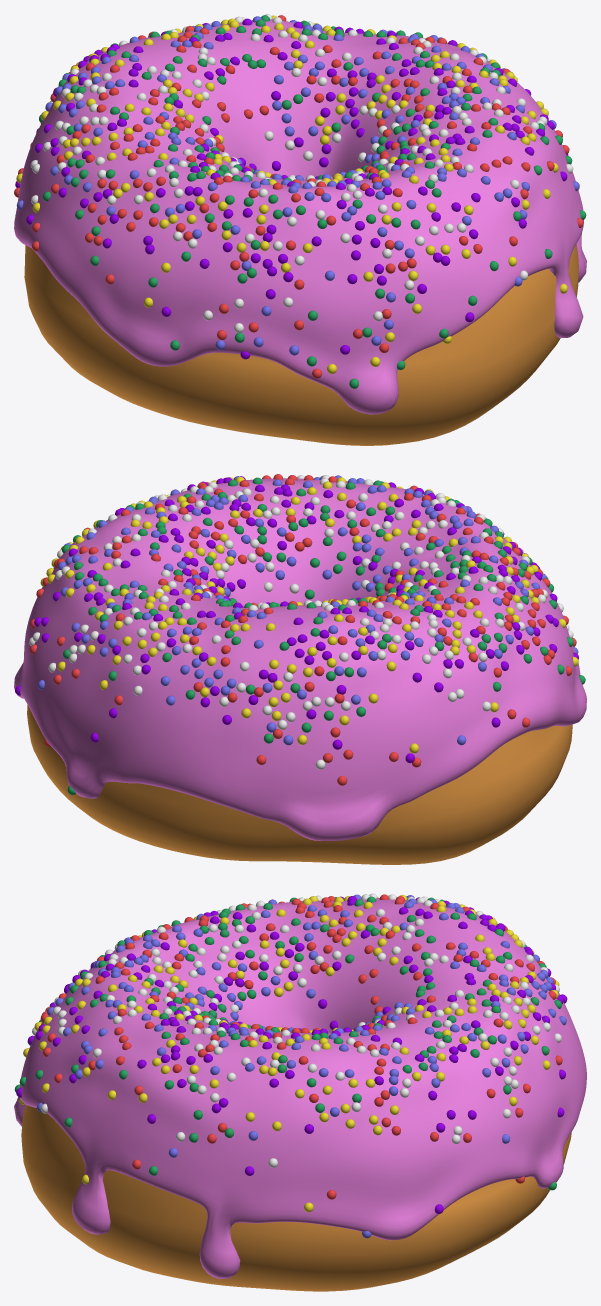
File: donut_forExport.fbx
3 views of the same model, one above another, from view 1: azimuth 30°, elevation 25°; view 2: azimuth 150°, elevation 25°; view 3: azimuth 270°, elevation 25° (orthographic). The views are drawn at different scales.
Parts seen in each view (by area): view 1: icing, donut; view 2: icing, donut; view 3: icing, donut.
Part boxes in pixels (bbox=[...]): icing: bbox=[14, 14, 586, 414]; donut: bbox=[24, 244, 578, 445]; icing: bbox=[14, 474, 586, 840]; donut: bbox=[27, 705, 572, 864]; icing: bbox=[14, 893, 586, 1279]; donut: bbox=[21, 1105, 571, 1291].
Size of the model in its own units: 13.06 by 7.23 by 13.45.
